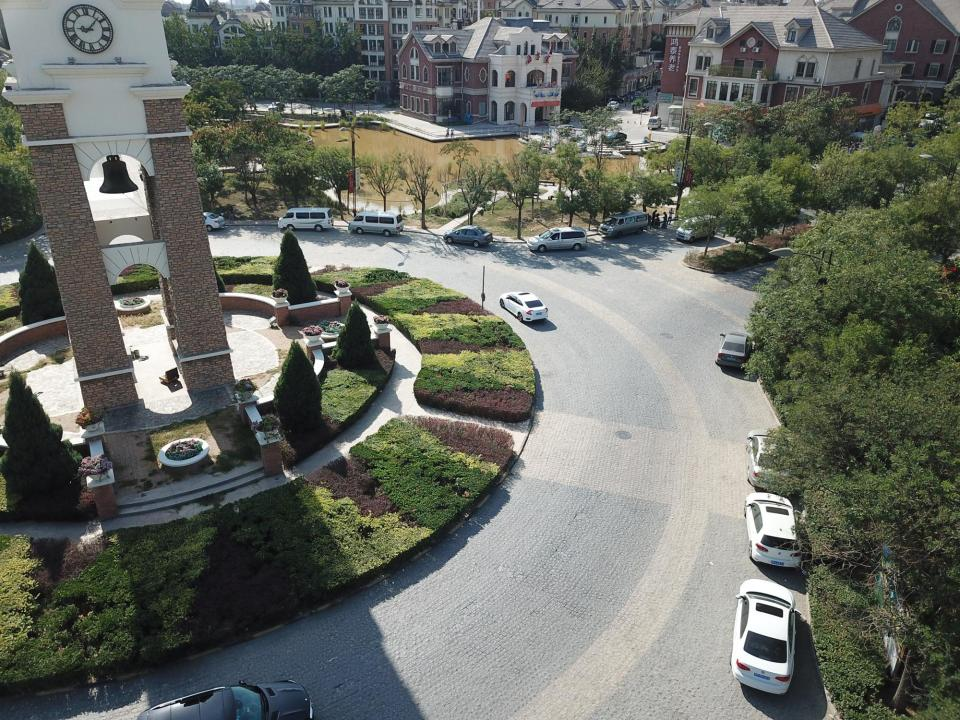car: (730, 578, 802, 696), (744, 491, 803, 568), (746, 429, 800, 494), (500, 290, 548, 322), (715, 331, 755, 368), (442, 225, 494, 247), (184, 212, 226, 232), (553, 124, 575, 138), (603, 132, 626, 144), (553, 114, 571, 124), (606, 94, 624, 103), (630, 90, 642, 102), (606, 102, 619, 110)
van: (527, 227, 589, 251), (348, 210, 405, 236), (597, 210, 649, 238), (277, 207, 334, 232), (676, 214, 718, 242), (647, 116, 662, 130)
